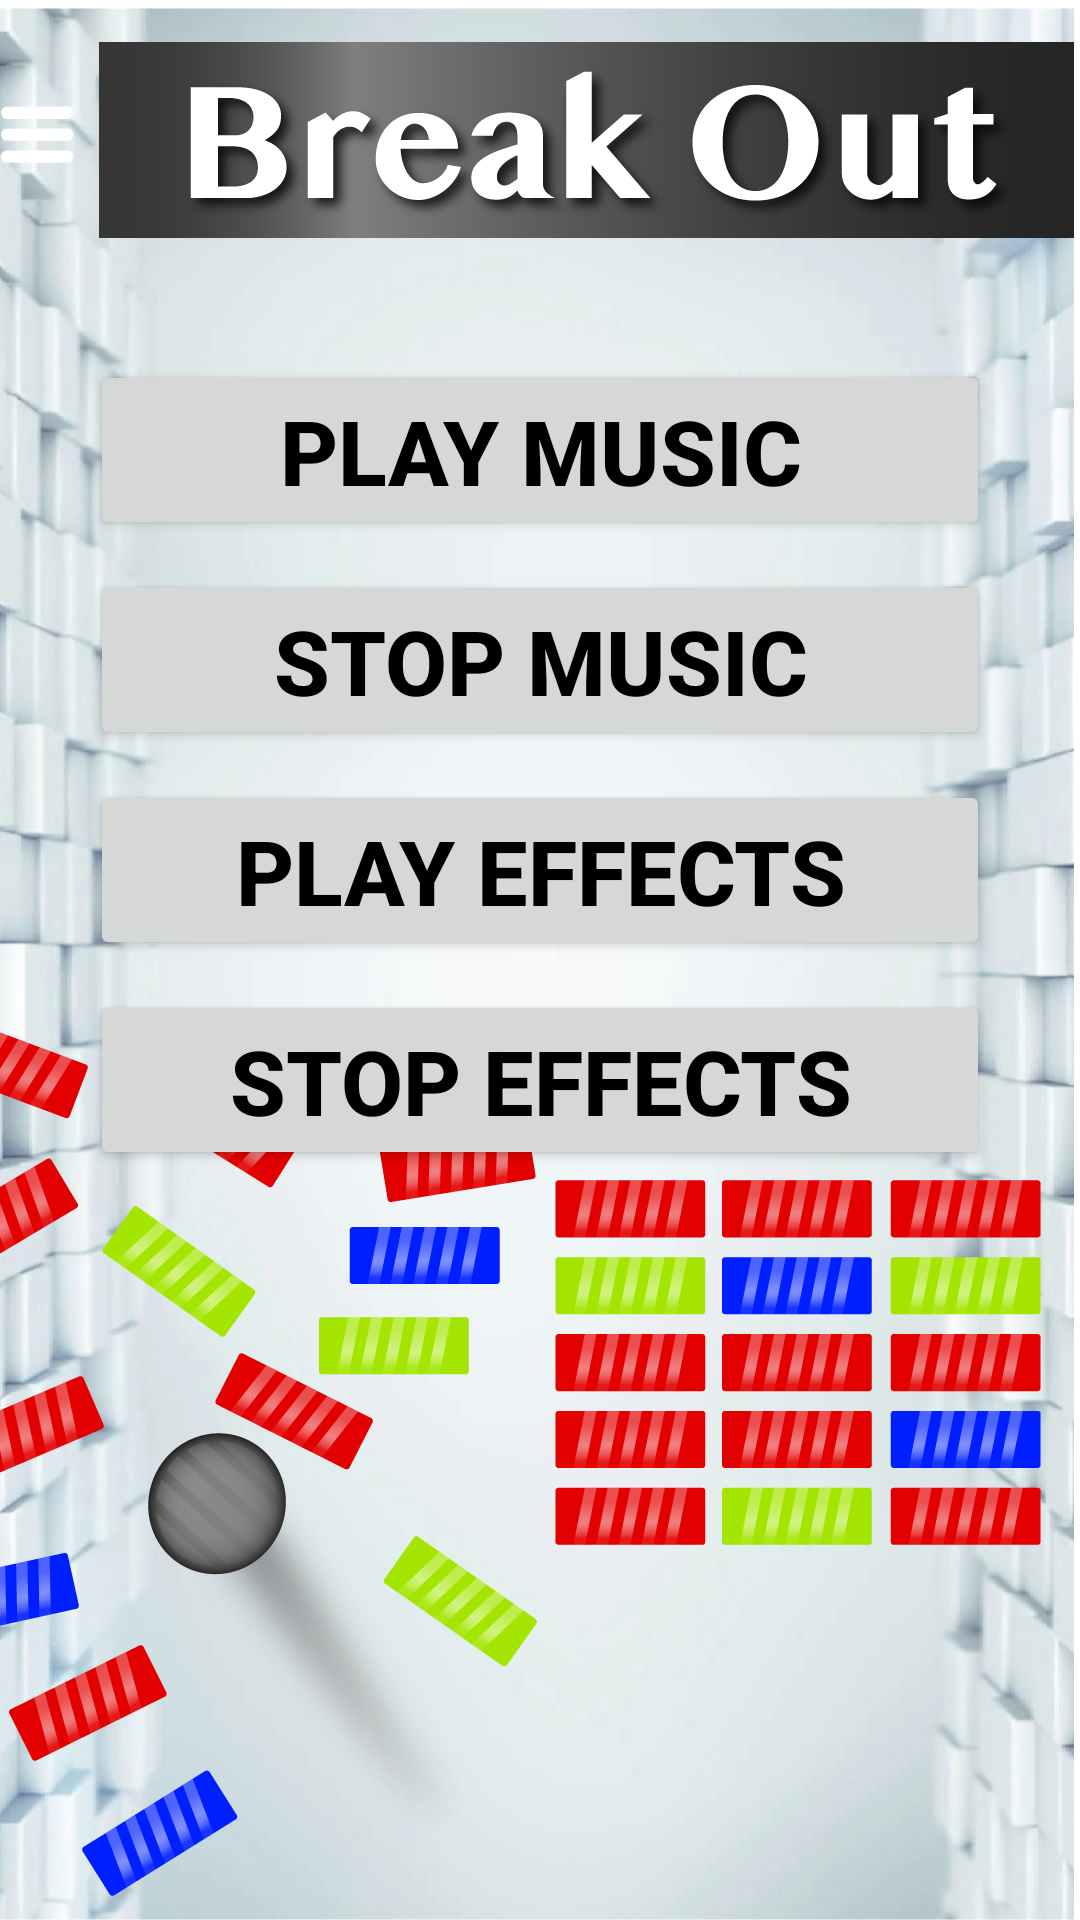

Point at icon controls on the screen. Image size 1080 x 1920, points as (x=x, y=y).
menuwhite: (x=37, y=135)
